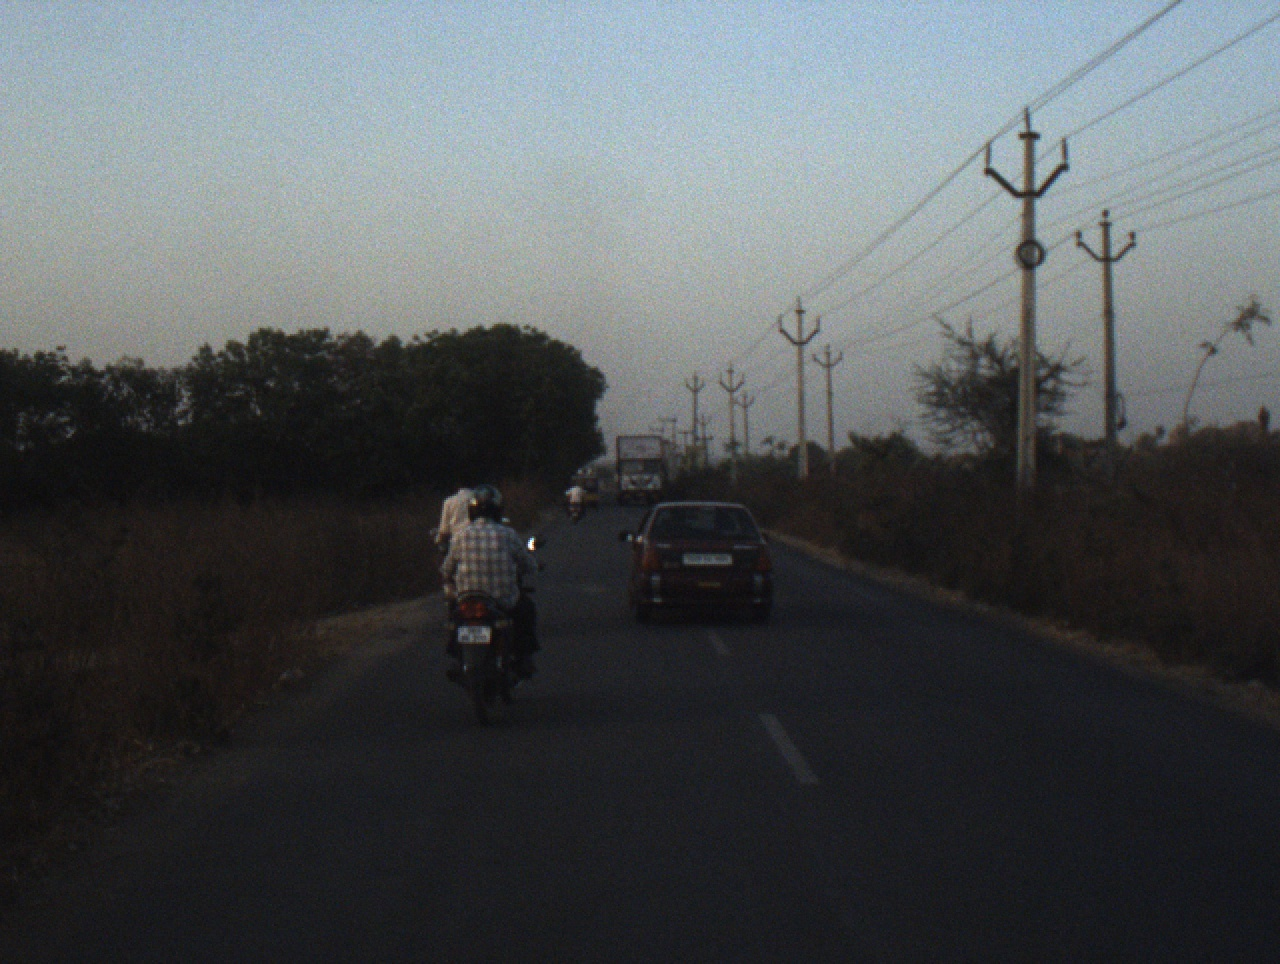autorickshaw: (569, 472, 600, 511)
car: (618, 497, 776, 625)
motorcycle: (430, 532, 550, 723), (566, 499, 583, 525)
rider: (439, 489, 547, 695), (432, 468, 481, 551), (565, 482, 589, 519)
truck: (611, 430, 675, 508)
